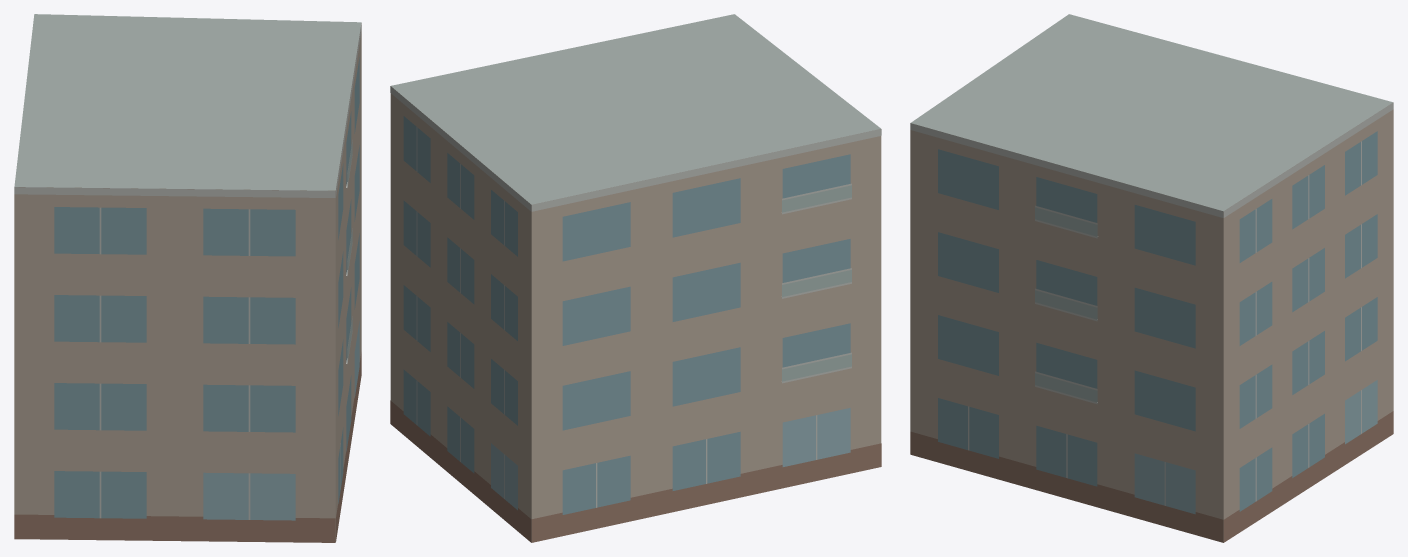
File: survey-upis-32534877.glb
The picture shows the model from 3 angles, left to right: view 1: azimuth 30°, elevation 25°; view 2: azimuth 150°, elevation 25°; view 3: azimuth 270°, elevation 25°; orthographic projection. The views are drawn at different scales.
Visible parts, largest first — view 1: survey-upis-32534877.tmp; view 2: survey-upis-32534877.tmp; view 3: survey-upis-32534877.tmp.
Part boxes in pixels (box(x1,y1,x2,y2)): survey-upis-32534877.tmp: box(14, 14, 361, 542); survey-upis-32534877.tmp: box(390, 14, 881, 542); survey-upis-32534877.tmp: box(910, 14, 1393, 542).
Bounding box in the file's own units: 14.94 × 11.7 × 15.46.
